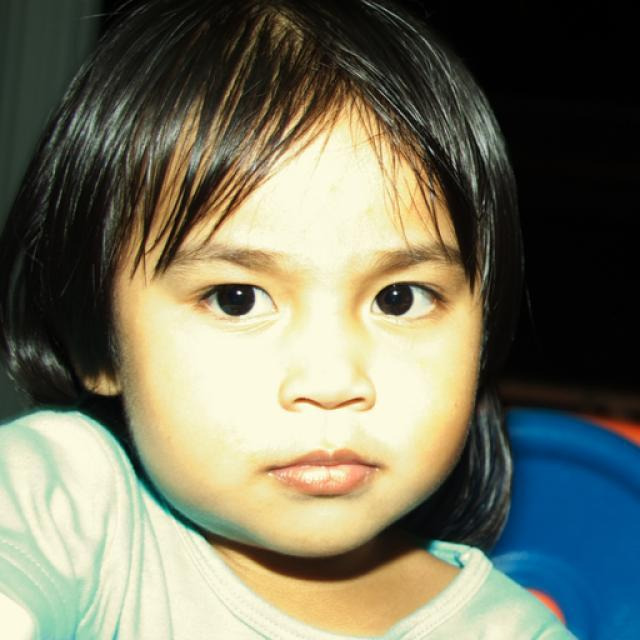neutral: (120, 110, 486, 559)
